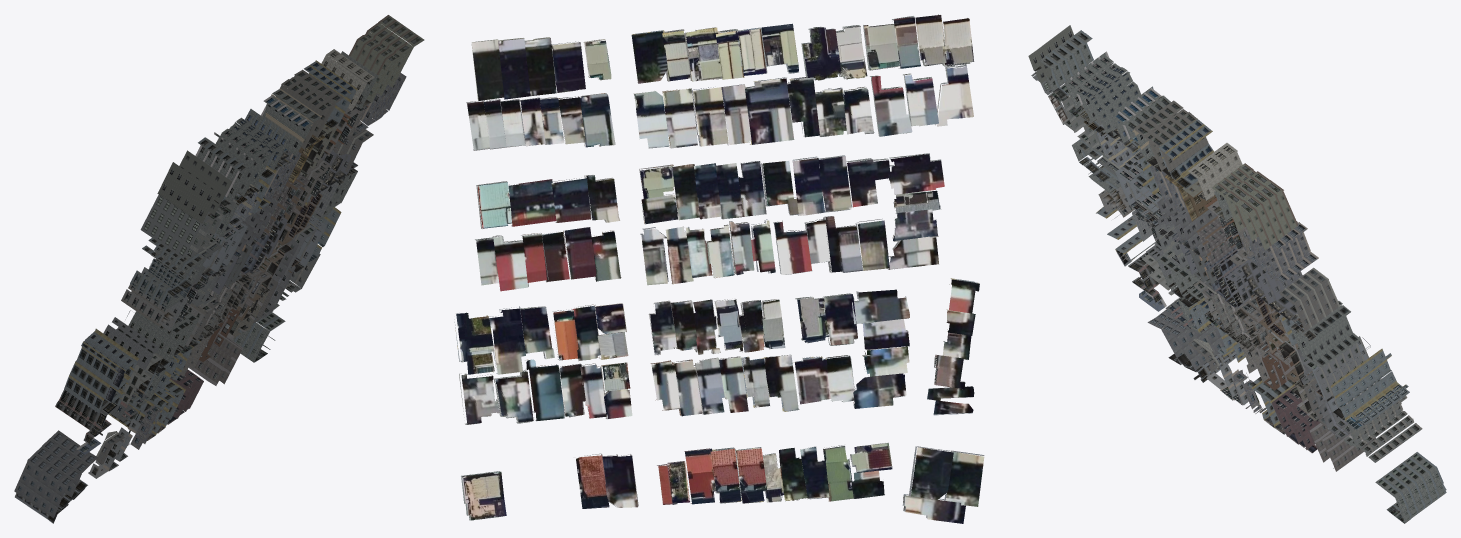
The model's file is tile_LOD4_r6_c9.glb.
The picture shows the model from 3 angles, left to right: view 1: azimuth 30°, elevation 25°; view 2: azimuth 150°, elevation 25°; view 3: azimuth 270°, elevation 25°; orthographic projection. The views are drawn at different scales.
Size of the model in its own units: 175 by 153 by 154.
Materials: 449 (449 with a texture image).
